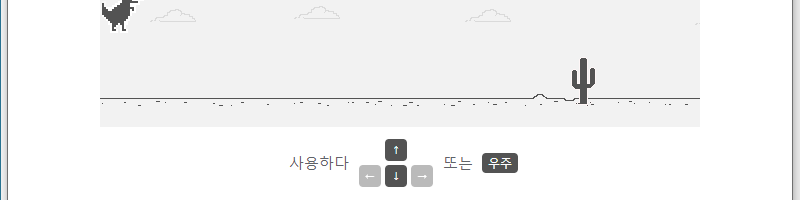dinosaur: (100, 1, 139, 32)
obstacle: (567, 56, 598, 107)
